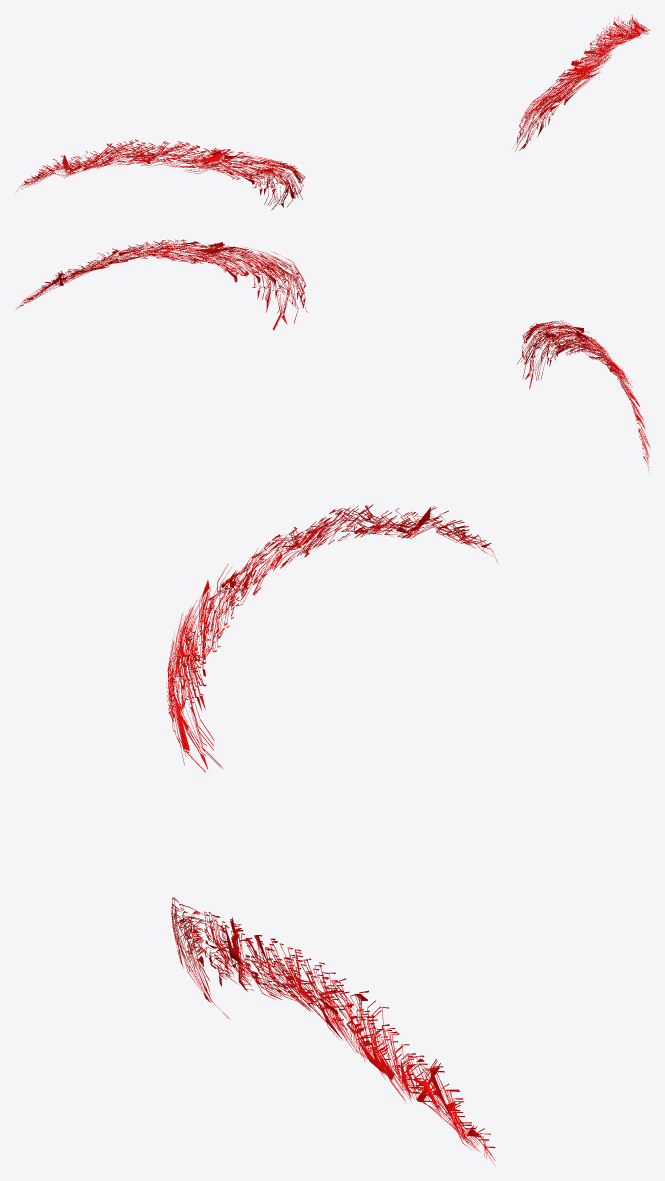
Rendered from mindfront_eyebrows_02_M.glb.
3 renders of one model, top to bottom at view 1: azimuth 30°, elevation 25°; view 2: azimuth 150°, elevation 25°; view 3: azimuth 270°, elevation 25°, orthographic. The views are drawn at different scales.
Bounding box in the file's own units: 0.1207 × 0.0146 × 0.0274.
1 material, 1 textured.
